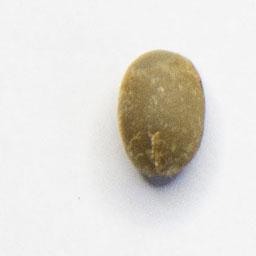peaberry: (114, 45, 209, 184)
